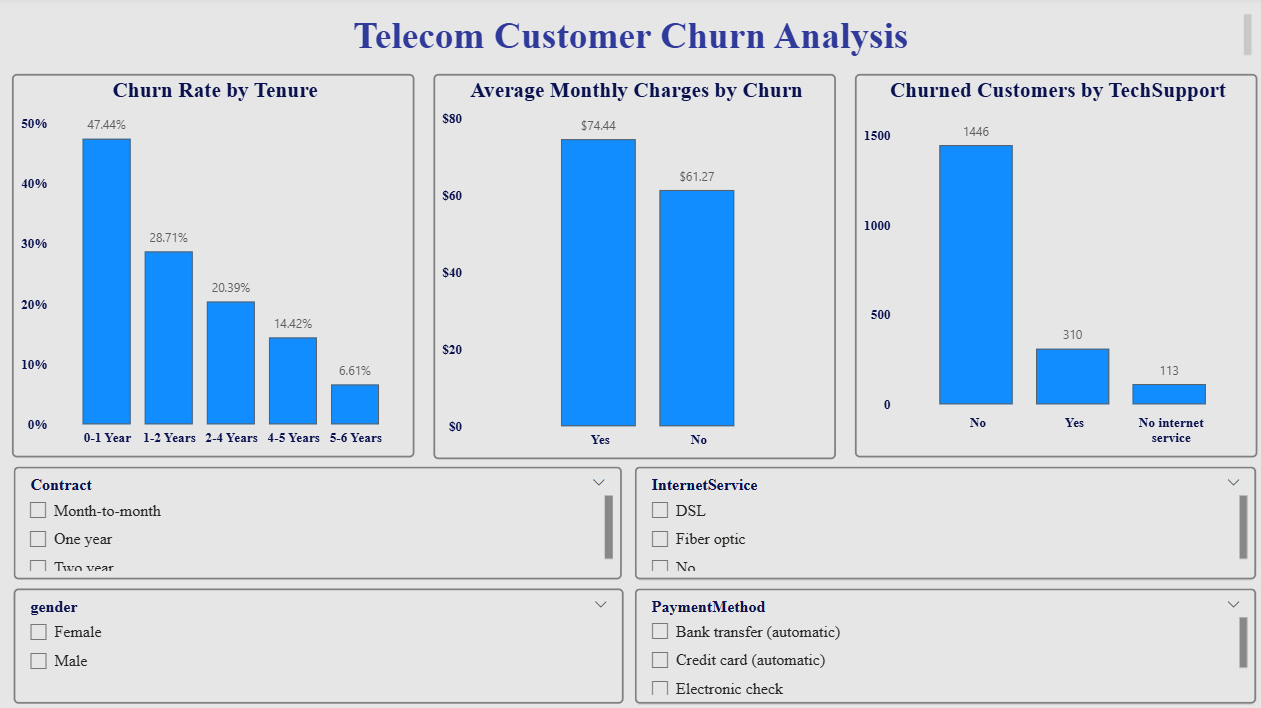

What the dashboard file says about the page in this screenshot:
{"tool":"powerbi","page":{"name":"Telecom Customer Churn Analysis","canvas":[1280,720],"ordinal":1},"visuals":[{"type":"clusteredColumnChart","title":"Churn Rate by Tenure","fields":{"Category":["telco_churn_cleaned.TenureGroup"],"Y":["telco_churn_cleaned.Churn Rate"]},"box":[17.3,78.6,402.6,383.4],"z":0},{"type":"clusteredColumnChart","fields":{"Category":["telco_churn_cleaned.Churn"],"Y":["telco_churn_cleaned.Average Monthly Charges"]},"box":[439,78.6,402.6,385.3],"z":1000},{"type":"clusteredColumnChart","title":"Churned Customers by TechSupport","fields":{"Category":["telco_churn_cleaned.TechSupport"],"Y":["telco_churn_cleaned.Churned Customers"]},"box":[858.8,78.6,402.6,383.4],"z":2000},{"type":"slicer","fields":{"Values":["telco_churn_cleaned.Contract"]},"box":[19.2,469.7,607.7,113.1],"z":3000},{"type":"slicer","fields":{"Values":["telco_churn_cleaned.InternetService"]},"box":[640.3,469.7,621.1,113.1],"z":4000},{"type":"slicer","fields":{"Values":["telco_churn_cleaned.PaymentMethod"]},"box":[640.3,592.3,621.1,115],"z":5000},{"type":"slicer","fields":{"Values":["telco_churn_cleaned.gender"]},"box":[19.2,592.3,609.6,115],"z":6000},{"type":"textbox","box":[17.3,13.4,1244.1,51.8],"z":7000}]}

Visuals, with their boxes in screenshot pixels (x1, y1, x2, y2), scaled from the page's 1280x720 canvas onto the 1261x708 screenshot:
"Churn Rate by Tenure" clusteredColumnChart: (17,77,414,454)
clusteredColumnChart - telco_churn_cleaned.Churn x telco_churn_cleaned.Average Monthly Charges: (432,77,829,456)
"Churned Customers by TechSupport" clusteredColumnChart: (846,77,1243,454)
slicer - telco_churn_cleaned.Contract: (19,462,618,573)
slicer - telco_churn_cleaned.InternetService: (631,462,1243,573)
slicer - telco_churn_cleaned.PaymentMethod: (631,582,1243,696)
slicer - telco_churn_cleaned.gender: (19,582,619,696)
textbox: (17,13,1243,64)
